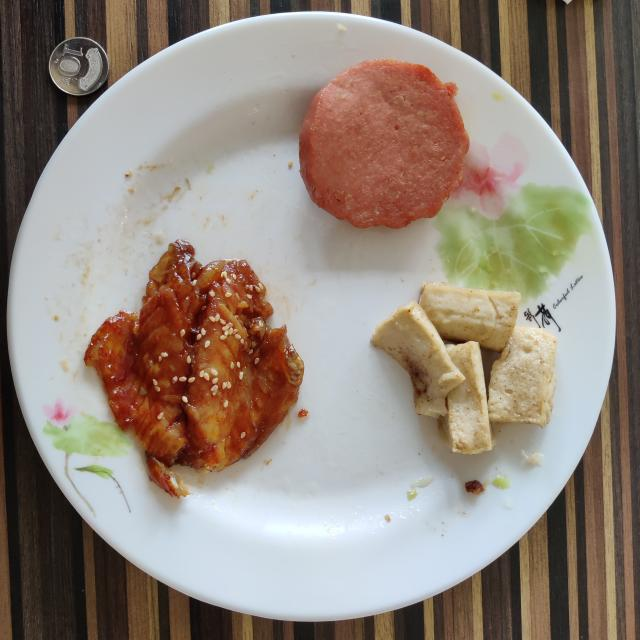Kabayaki sea bream fillet: (84, 240, 304, 498)
Spam: (299, 60, 470, 229)
coin: (49, 38, 109, 96)
creamy tofu -without sauce-: (371, 282, 521, 454), (488, 326, 558, 428)
